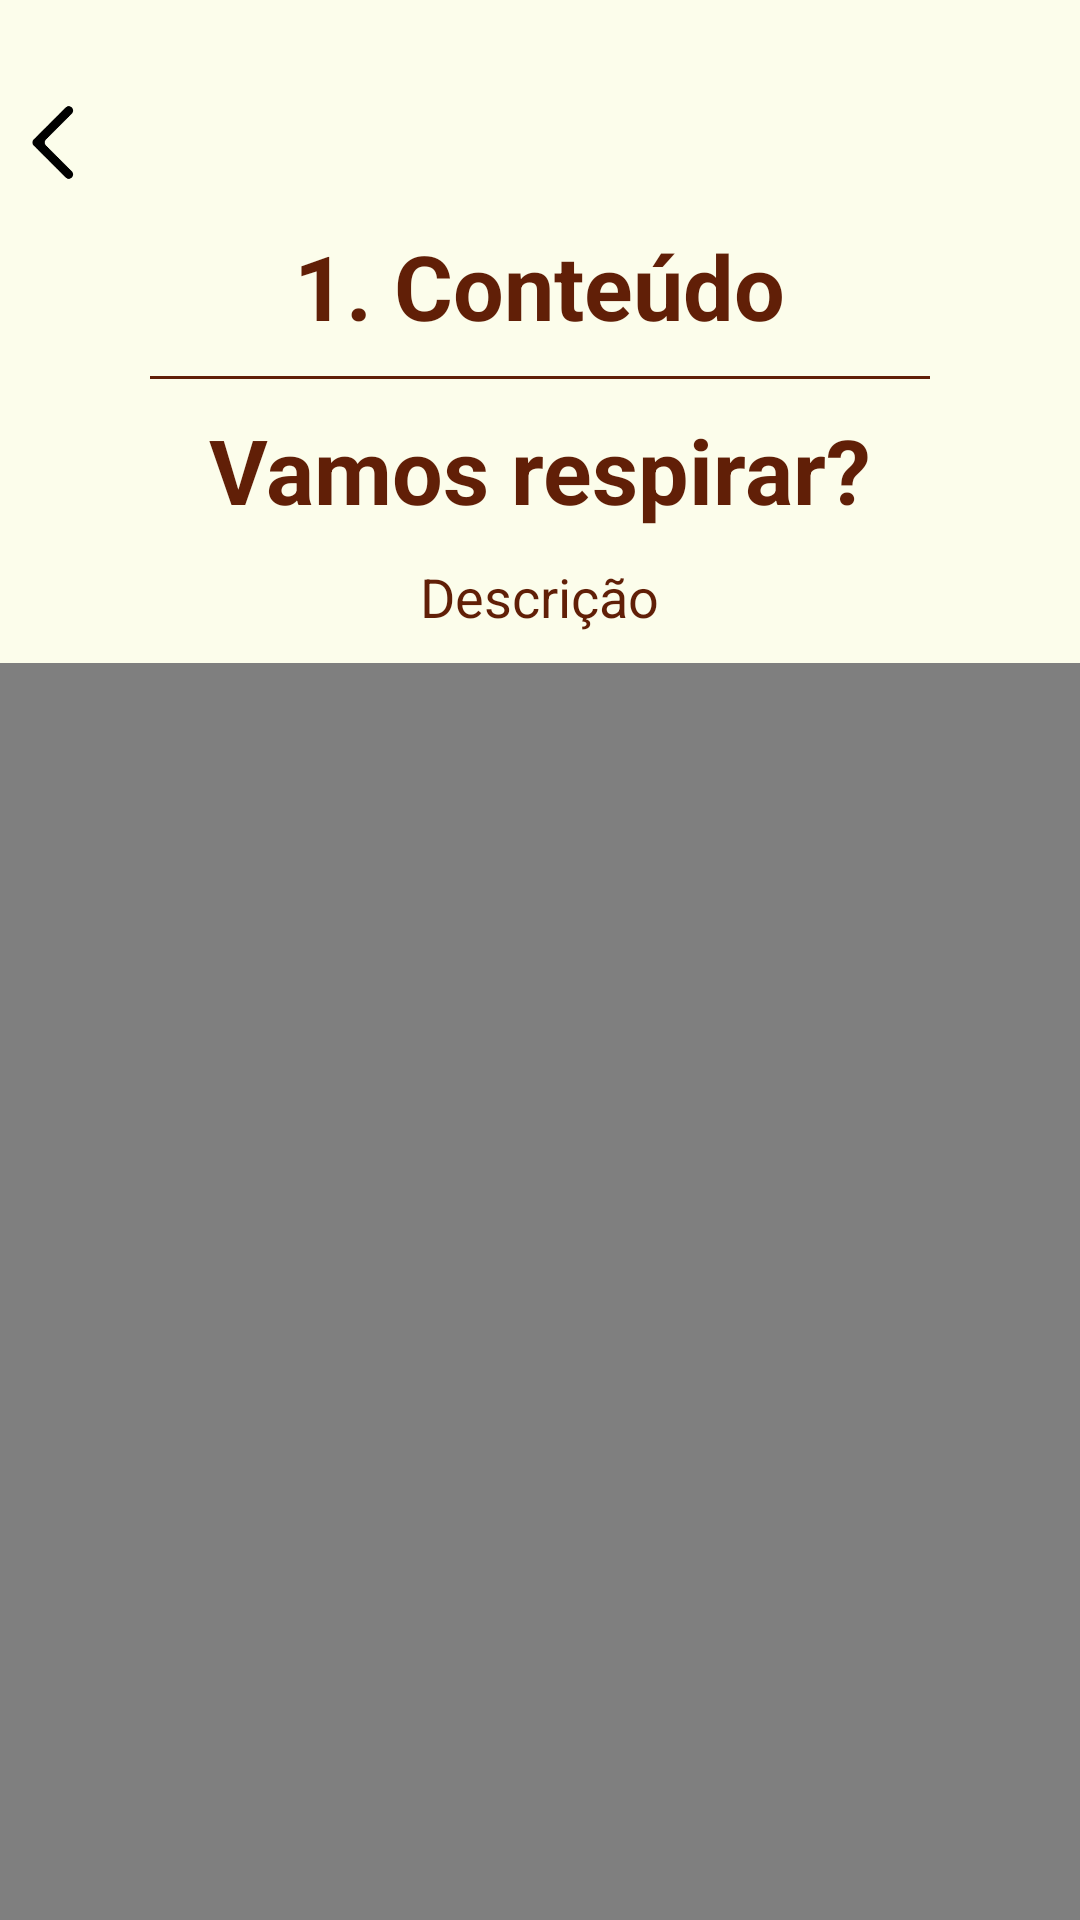

Locate icon controls on the screen. Image size 1080px×1920px, boxes as (x1, y1, x2, y2).
Back button: (32, 106, 73, 179)
